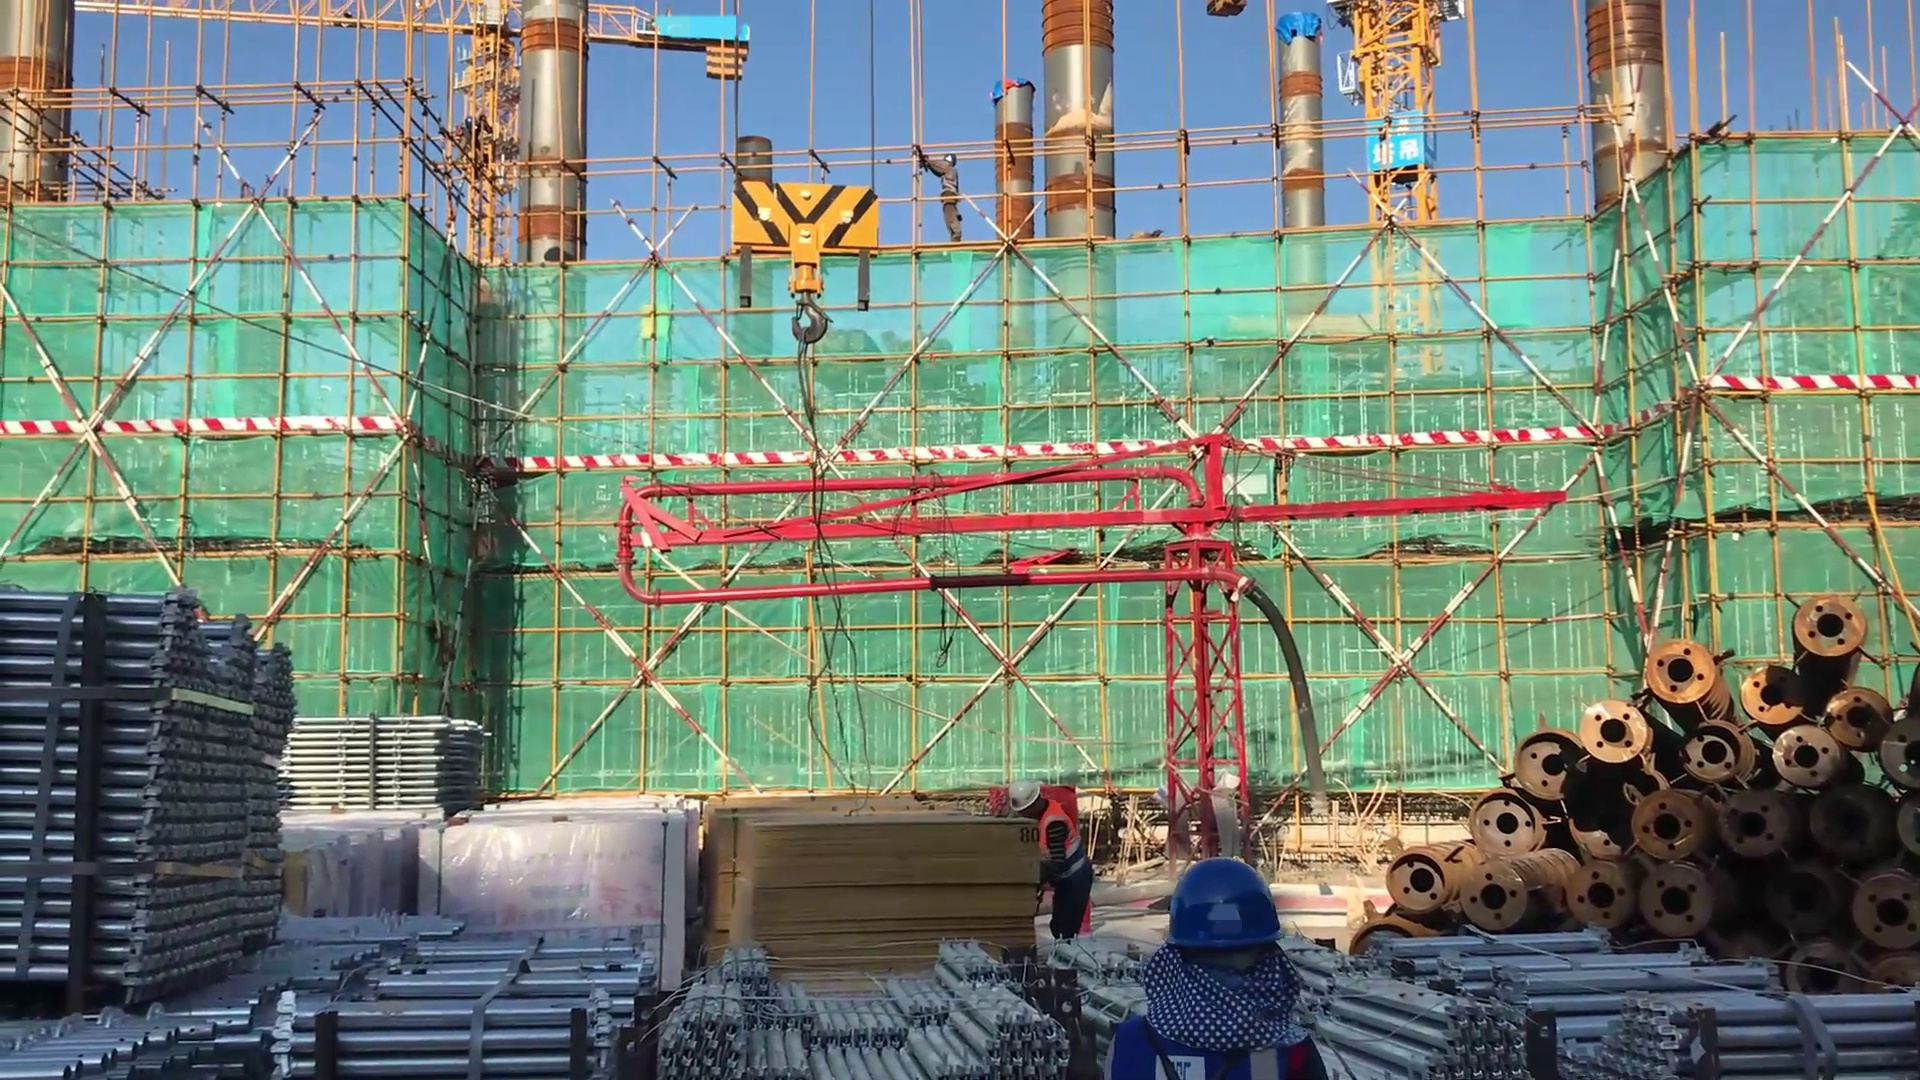board: (706, 801, 1030, 958)
helmet: (1162, 855, 1292, 948), (1011, 776, 1046, 816), (942, 151, 958, 167)
hook: (705, 162, 888, 380)
person: (1108, 856, 1347, 1080), (1007, 774, 1103, 957), (906, 132, 967, 260)
scaffold: (1, 594, 308, 1080), (1327, 927, 1920, 1079), (266, 901, 641, 1080), (656, 934, 1074, 1080), (288, 707, 494, 813)
slogan: (1375, 109, 1437, 176)
vest: (1111, 991, 1319, 1080), (1033, 802, 1097, 894)
